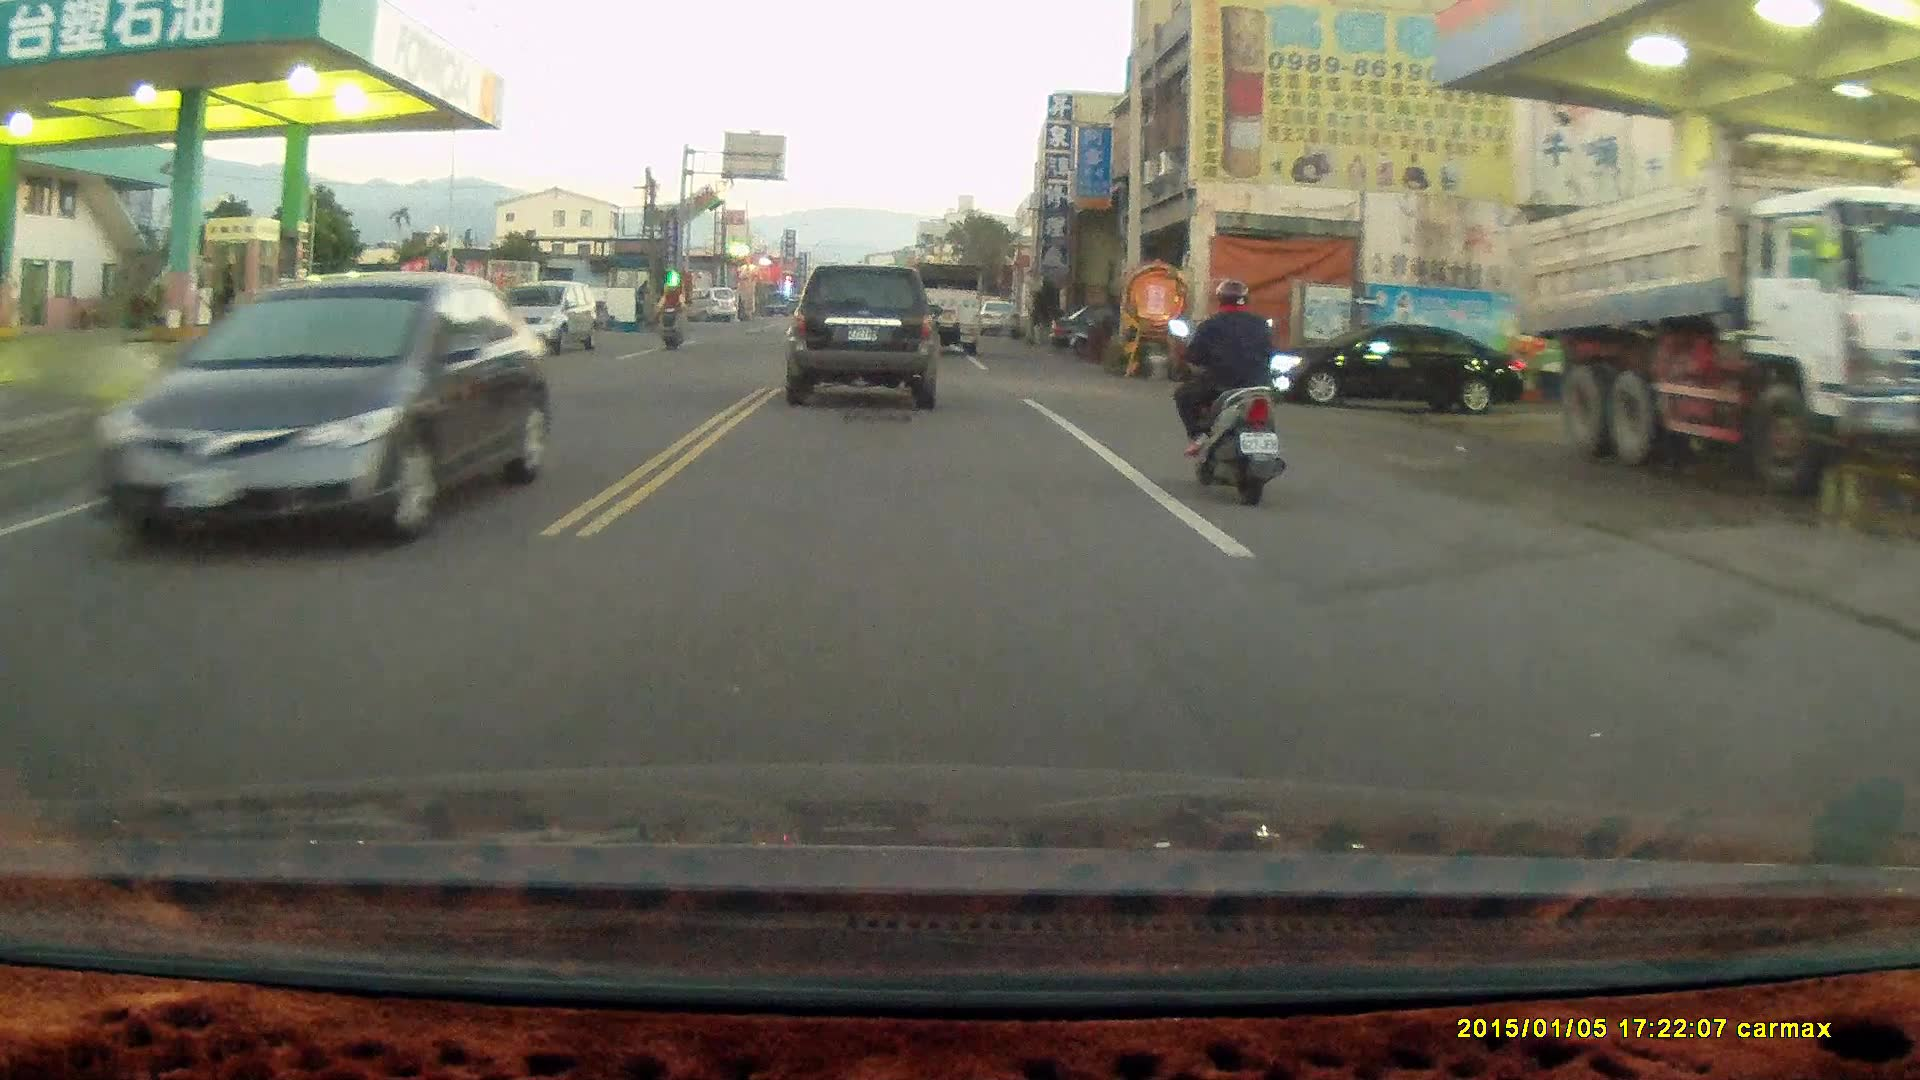rider: (1165, 275, 1285, 508), (651, 280, 683, 352)
vehicle: (1512, 130, 1920, 484), (85, 271, 545, 554), (788, 264, 941, 413), (1280, 324, 1530, 416), (483, 277, 598, 362), (908, 263, 984, 354)
